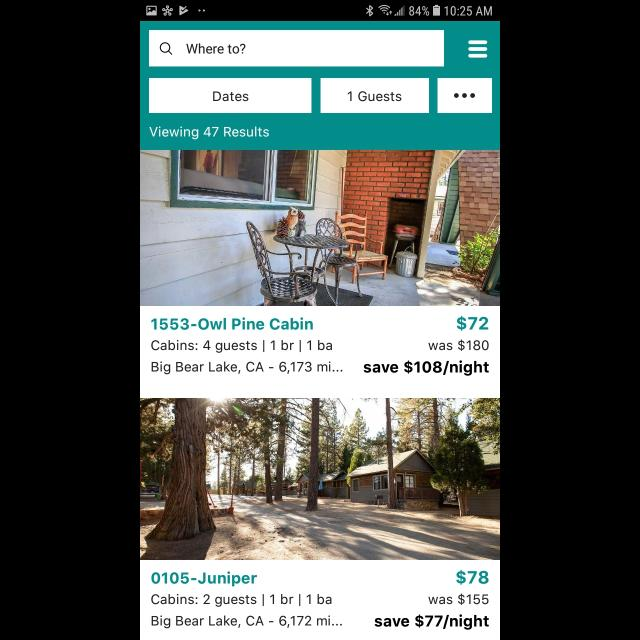icon: (468, 40, 488, 58), (160, 42, 172, 56)
image: (140, 398, 500, 560), (140, 150, 500, 306)
input: (150, 31, 444, 67)
text: (152, 594, 342, 628), (152, 340, 342, 374), (364, 360, 488, 376), (151, 318, 313, 330), (375, 614, 489, 630), (151, 571, 257, 587), (150, 126, 270, 140), (428, 593, 488, 605), (428, 340, 488, 352), (186, 44, 246, 54), (456, 570, 488, 586), (458, 316, 488, 332)
textbutton: (150, 78, 312, 114), (321, 78, 429, 114), (436, 78, 492, 114)
uppertaskbar: (140, 1, 500, 22)
